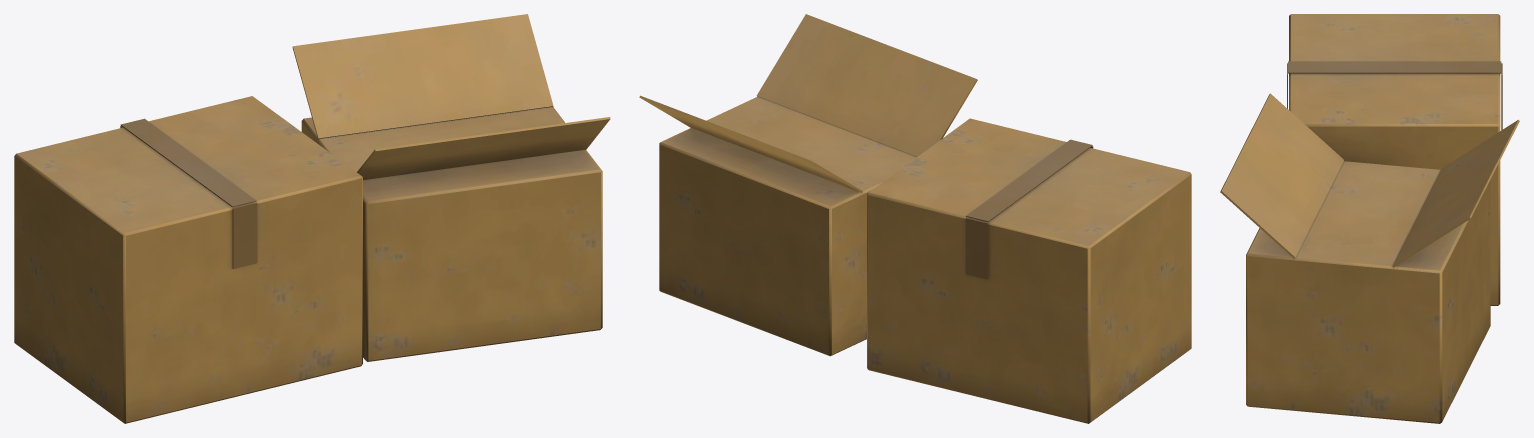
The model's file is boxes_pair-low.glb.
3 renders of one model, left to right at view 1: azimuth 30°, elevation 25°; view 2: azimuth 150°, elevation 25°; view 3: azimuth 270°, elevation 25°, orthographic. The views are drawn at different scales.
Parts seen in each view (by area): view 1: boxes_pair-low; view 2: boxes_pair-low; view 3: boxes_pair-low.
Boxes of the visible parts, <box> form: boxes_pair-low: <box>14,14,610,423</box>; boxes_pair-low: <box>639,14,1191,423</box>; boxes_pair-low: <box>1220,14,1519,423</box>.
Bounding box in the file's own units: 1.04 × 0.4467 × 0.5673.
1 material, 1 textured.
